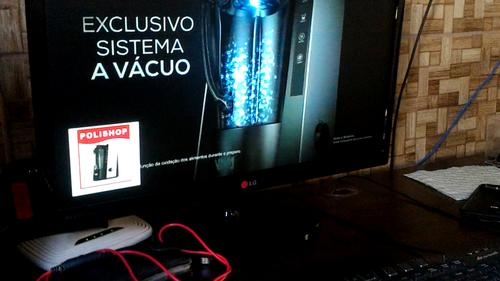Polishop #1: (68, 121, 141, 197)
